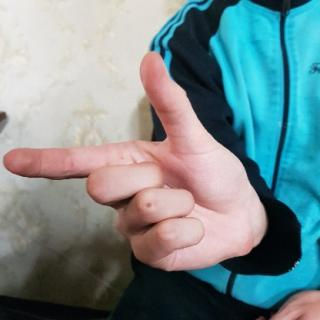NOON: (2, 44, 266, 280)
